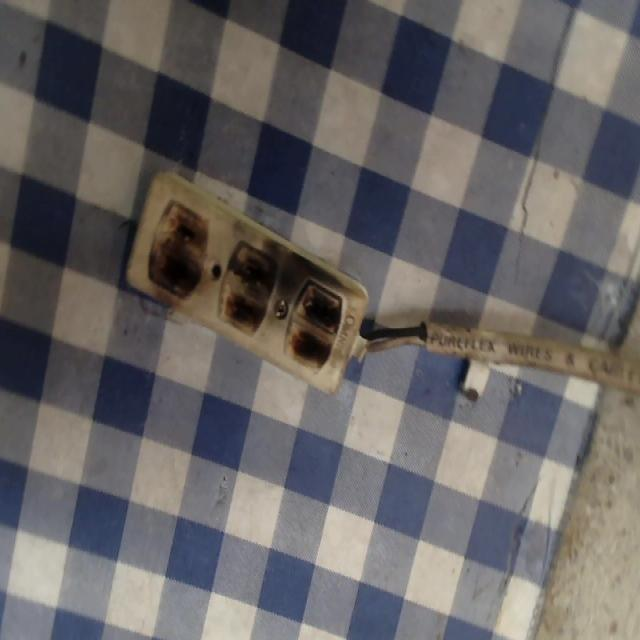-: (283, 271, 346, 380), (218, 232, 272, 347), (148, 202, 208, 298)
